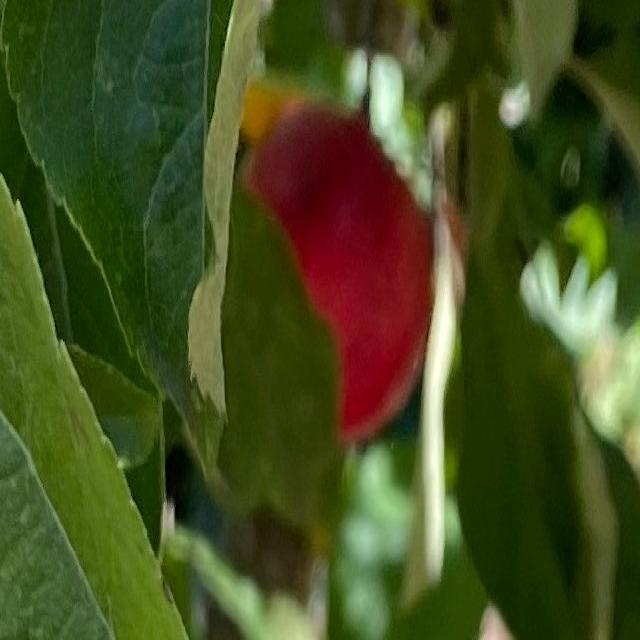100-_ripeness: (240, 100, 433, 433)
